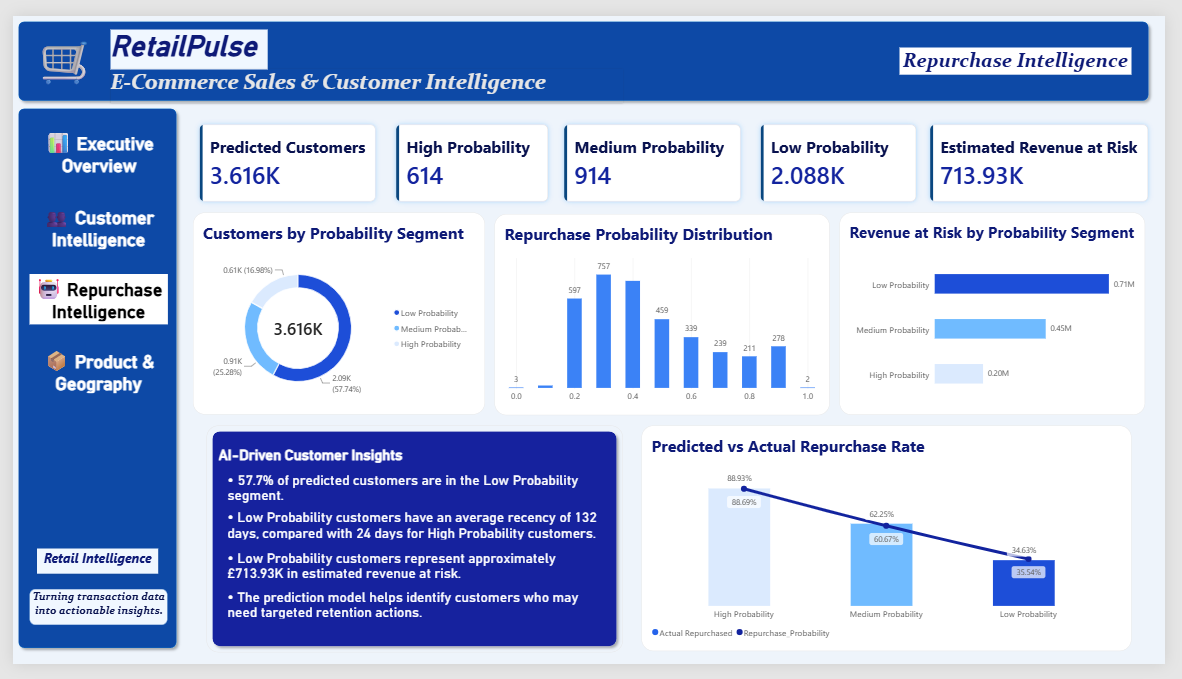

This screenshot's page, from the dashboard's own definition file:
{"tool":"powerbi","page":{"name":"Page 3","canvas":[1920,1080],"ordinal":2},"visuals":[{"type":"shape","box":[0,144,281.5,917.4],"z":0},{"type":"textbox","title":"👥 Customer Intelligence","box":[27.9,309.4,230.6,106.2],"z":1000},{"type":"textbox","title":"📊 Executive Overview ","box":[27.5,187.5,232.5,122.5],"z":2000},{"type":"textbox","title":"🤖 Repurchase Intelligence","box":[27.5,430,230.6,110.6],"z":3000},{"type":"textbox","title":"📦 Product & Geography","box":[27.5,550,230.6,111.2],"z":4000},{"type":"cardVisual","fields":{"Data":["customer_predictions.Predicted Customers"]},"box":[300.8,169.7,315,150],"z":5000},{"type":"cardVisual","fields":{"Data":["customer_predictions.High Probability"]},"box":[626.2,168.8,275,150],"z":6000},{"type":"cardVisual","fields":{"Data":["customer_rfm.Medium Probability"]},"box":[906.7,169.7,316,150],"z":7000},{"type":"cardVisual","fields":{"Data":["customer_predictions.Low Probability"]},"box":[1235.4,169.7,281.5,150.4],"z":8000},{"type":"donutChart","title":"Customers by Probability Segment","fields":{"Category":["customer_predictions.Repurchase_Priority"],"Y":["CountNonNull(customer_predictions.CustomerID)"]},"box":[300.8,328.7,486.7,336.4],"z":9000},{"type":"clusteredColumnChart","title":"Repurchase Probability Distribution","fields":{"Category":["customer_predictions.Repurchase_Probability (bins)"],"Y":["CountNonNull(customer_predictions.CustomerID)"]},"box":[803.6,330.9,558.6,335.2],"z":10000},{"type":"barChart","title":"Revenue at Risk by Probability Segment","fields":{"Category":["customer_predictions.Repurchase_Priority"],"Y":["Sum(customer_predictions.Revenue_At_Risk)"]},"box":[1377.2,328.7,509.2,337.3],"z":11000},{"type":"cardVisual","fields":{"Data":["customer_predictions.Estimated Revenue at Risk"]},"box":[1516.9,169.7,385,150],"z":12000},{"type":"shape","box":[322.3,683.3,694,378.2],"z":13000},{"type":"textbox","title":"AI-Driven Customer Insights","box":[343.3,717.8,331.6,40.6],"z":14000},{"type":"textbox","title":"• 57.7% of predicted customers are in the Low Probability segment.","box":[356.7,758.9,660,55.7],"z":15000},{"type":"textbox","title":"• Low Probability customers have an average recency of 132 days, compared with 24 days for High Probability customers.","box":[356.7,822.9,658.6,50],"z":16000},{"type":"textbox","title":"• Low Probability customers represent approximately £713.93K in estimated revenue at risk.","box":[356.7,889.5,636,49.4],"z":17000},{"type":"textbox","title":"• The prediction model helps identify customers who may need targeted retention actions.","box":[356.7,954,636,49.4],"z":18000},{"type":"lineClusteredColumnComboChart","title":"Predicted vs Actual Repurchase Rate","fields":{"Category":["customer_predictions.Repurchase_Priority"],"Y":["Avg(customer_predictions.Actual_Repurchased)"],"Y2":["Avg(customer_predictions.Repurchase_Probability)"]},"box":[1048.5,683.3,816.5,376],"z":19000},{"type":"shape","box":[0,0,1901.5,150.4],"z":20000},{"type":"textbox","title":"🛒","box":[15,22.5,140,127.5],"z":21000},{"type":"textbox","title":"RetailPulse","box":[163.3,21.5,262.1,66.6],"z":22000},{"type":"textbox","title":"E-Commerce Sales & Customer Intelligence","box":[162.5,87.5,854.2,57.3],"z":23000},{"type":"textbox","title":"Repurchase Intelligence","box":[1478.2,51.6,386.7,45.1],"z":24000},{"type":"textbox","title":"Retail Intelligence","box":[40.8,887.4,202.2,42.2],"z":25000},{"type":"textbox","title":"Turning transaction data into actionable insights.","box":[27.9,954,229.9,60.2],"z":26000}]}

Visuals, with their boxes in screenshot pixels (x1, y1, x2, y2), scaled from the page's 1920x1080 canvas onto the 1182x679 screenshot:
shape: 0:91:173:667
"👥 Customer Intelligence" textbox: 17:195:159:261
"📊 Executive Overview " textbox: 17:118:160:195
"🤖 Repurchase Intelligence" textbox: 17:270:159:340
"📦 Product & Geography" textbox: 17:346:159:416
cardVisual - customer_predictions.Predicted Customers: 185:107:379:201
cardVisual - customer_predictions.High Probability: 386:106:555:200
cardVisual - customer_rfm.Medium Probability: 558:107:753:201
cardVisual - customer_predictions.Low Probability: 761:107:934:201
"Customers by Probability Segment" donutChart: 185:207:485:418
"Repurchase Probability Distribution" clusteredColumnChart: 495:208:839:419
"Revenue at Risk by Probability Segment" barChart: 848:207:1161:419
cardVisual - customer_predictions.Estimated Revenue at Risk: 934:107:1171:201
shape: 198:430:626:667
"AI-Driven Customer Insights" textbox: 211:451:415:477
"• 57.7% of predicted customers are in the Low Probability segment." textbox: 220:477:626:512
"• Low Probability customers have an average recency of 132 days, compared with 24 days for High Probability customers." textbox: 220:517:625:549
"• Low Probability customers represent approximately £713.93K in estimated revenue at risk." textbox: 220:559:611:590
"• The prediction model helps identify customers who may need targeted retention actions." textbox: 220:600:611:631
"Predicted vs Actual Repurchase Rate" lineClusteredColumnComboChart: 645:430:1148:666
shape: 0:0:1171:95
"🛒" textbox: 9:14:95:94
"RetailPulse" textbox: 101:14:262:55
"E-Commerce Sales & Customer Intelligence" textbox: 100:55:626:91
"Repurchase Intelligence" textbox: 910:32:1148:61
"Retail Intelligence" textbox: 25:558:150:584
"Turning transaction data into actionable insights." textbox: 17:600:159:638
